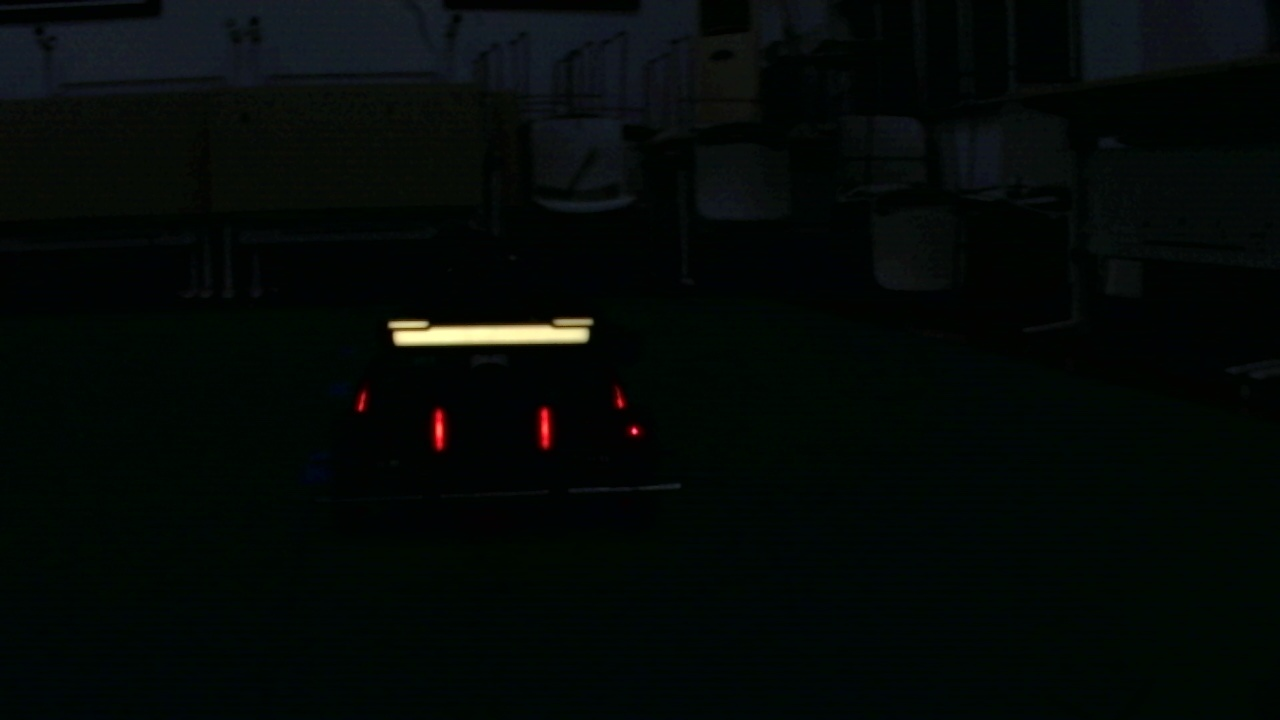lamp: (433, 405, 446, 453), (538, 405, 550, 452)
pair1: (433, 409, 551, 449)
